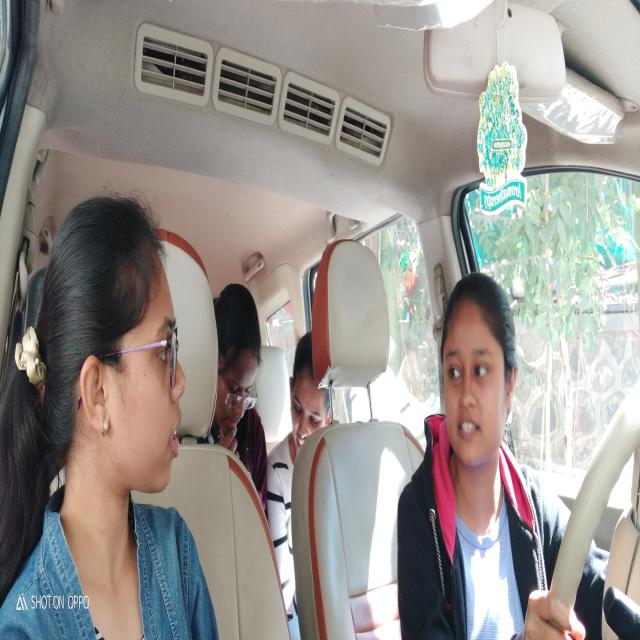LeftRight: (438, 265, 517, 471)
person: (50, 195, 186, 503), (216, 283, 260, 443), (287, 325, 329, 448)
talking: (166, 406, 183, 463), (456, 415, 483, 440)
